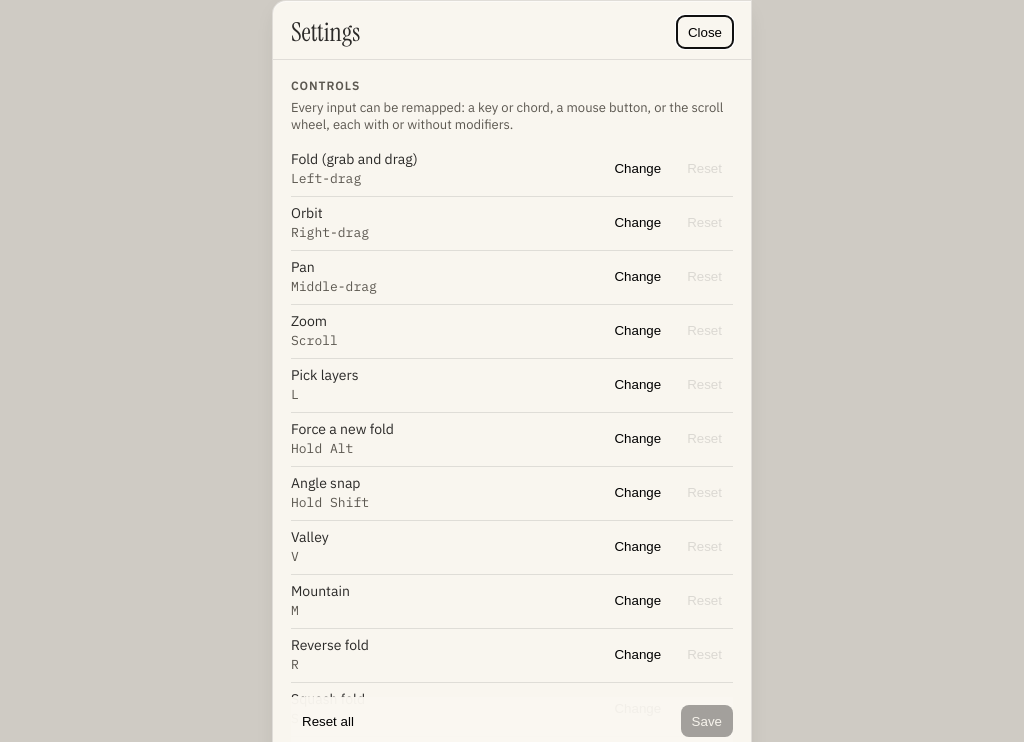
Test: settings sheet: controls › a modifier-only press is ignored while capturing a key; chords keep their modifiers
The width and height of the screenshot is (1024, 742).
Click the button with aria-label "Change Valley".
click(638, 546)  # box [604, 530, 672, 562]
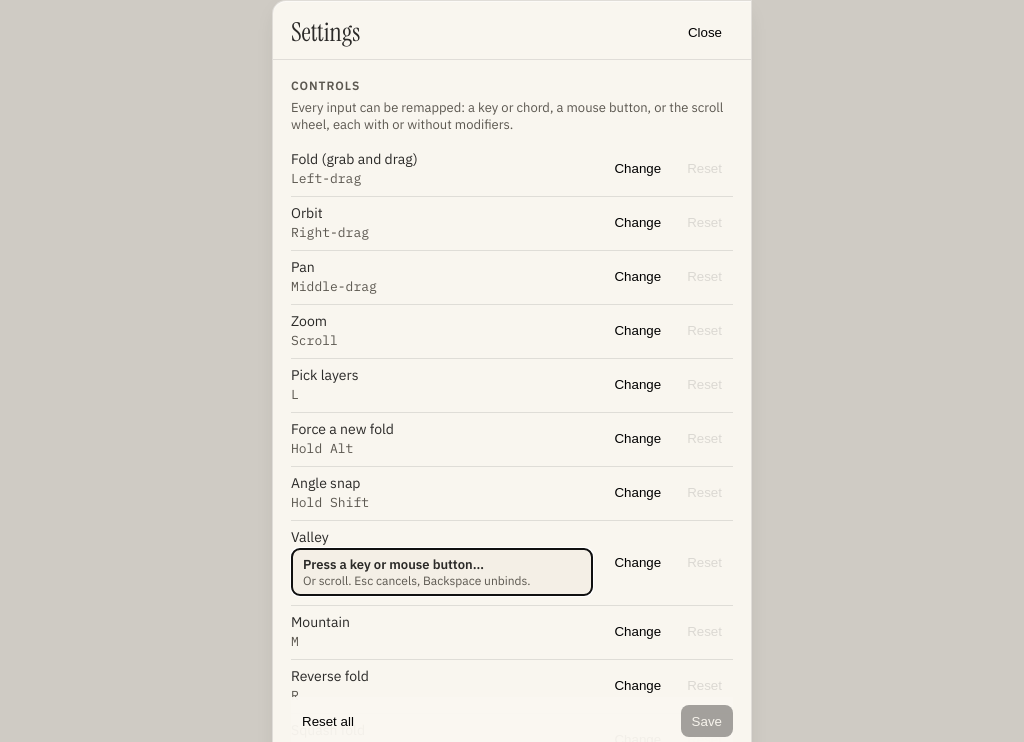
Press Shift in the element named "New binding for Valley", box [291, 548, 594, 596]
Now the text "Press a key or mouse button…" is shown, box [303, 556, 484, 573]
Press B in the element named "New binding for Valley", box [291, 548, 594, 596]
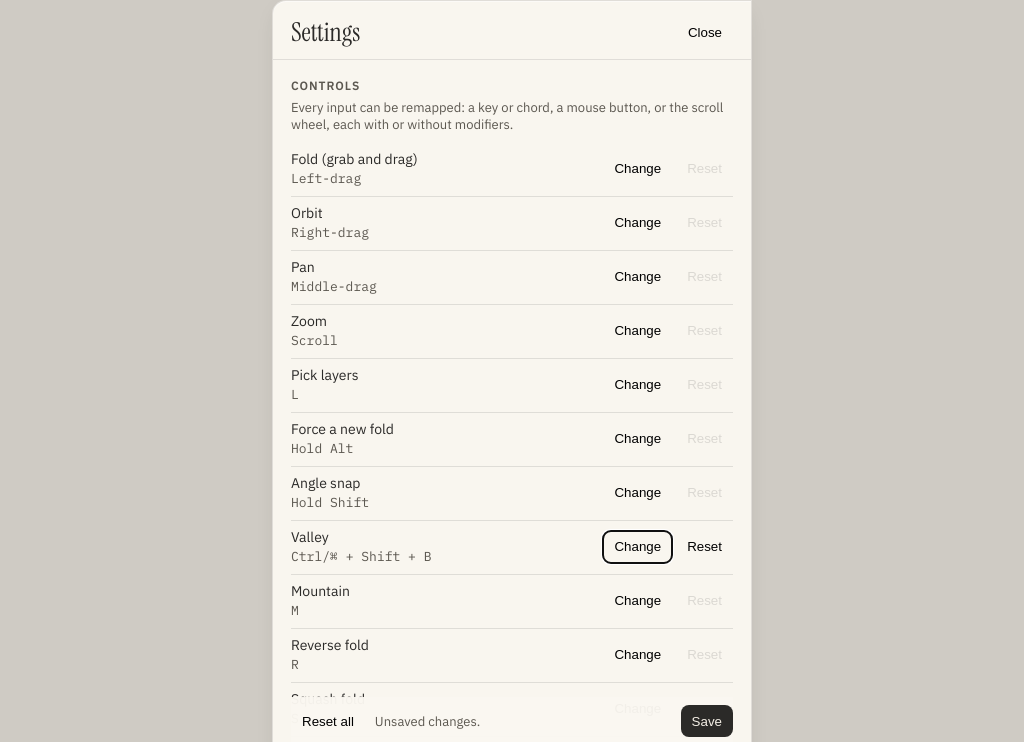
Now the text "Ctrl/⌘ + Shift + B" is shown, box [291, 548, 431, 565]
